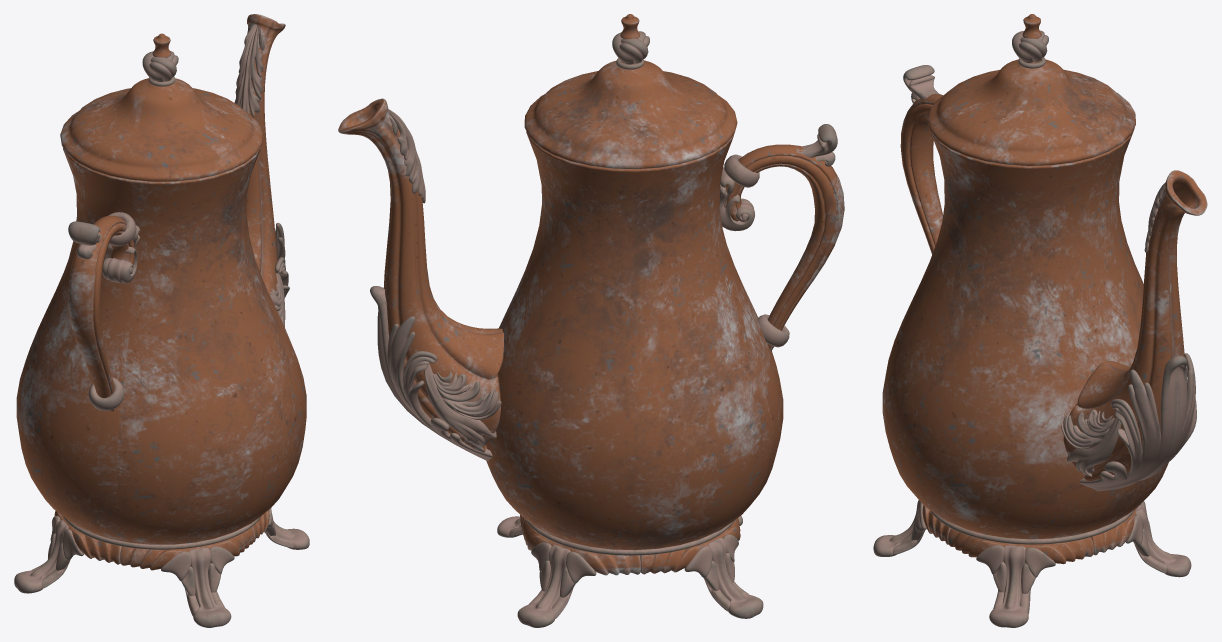
Rendered from bakir-surahi2.glb.
The picture shows the model from 3 angles, left to right: view 1: azimuth 30°, elevation 25°; view 2: azimuth 150°, elevation 25°; view 3: azimuth 270°, elevation 25°; orthographic projection. The views are drawn at different scales.
Visible parts, largest first — view 1: Jug Copper; view 2: Jug Copper; view 3: Jug Copper.
Part boxes in pixels (bbox=[...]): Jug Copper: bbox=[14, 14, 309, 627]; Jug Copper: bbox=[338, 14, 844, 627]; Jug Copper: bbox=[873, 14, 1207, 627].
Bounding box in the file's own units: 0.1918 × 0.2821 × 0.156.
Materials: 1 (1 with a texture image).
